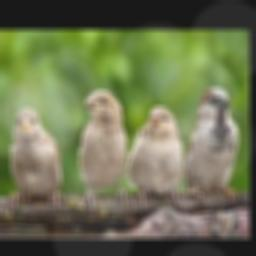Sparrow: (184, 86, 239, 203), (79, 90, 129, 212), (9, 107, 63, 211), (127, 105, 183, 202)
